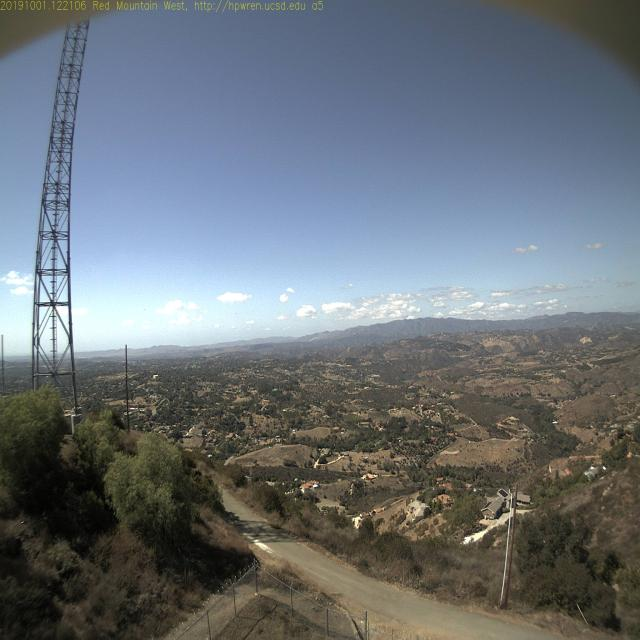smoke: (301, 326, 325, 346)
